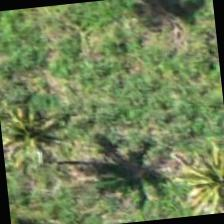Kelapa_Sawit: (0, 94, 81, 192), (166, 154, 223, 219)
